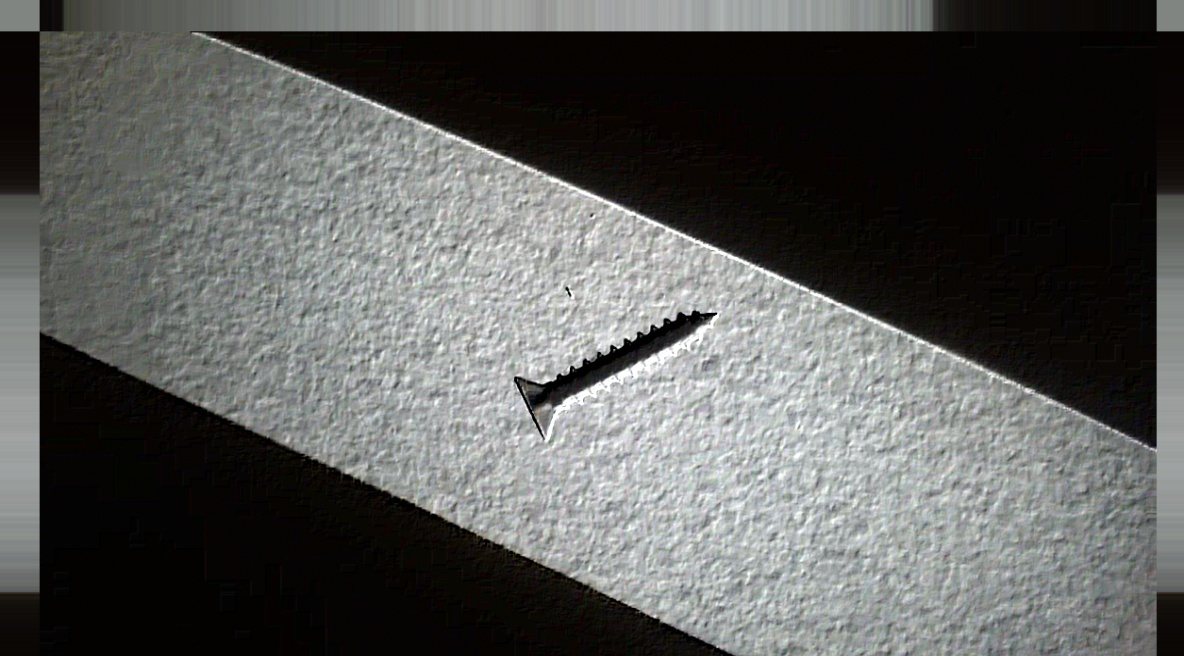S001: (505, 296, 742, 452)
